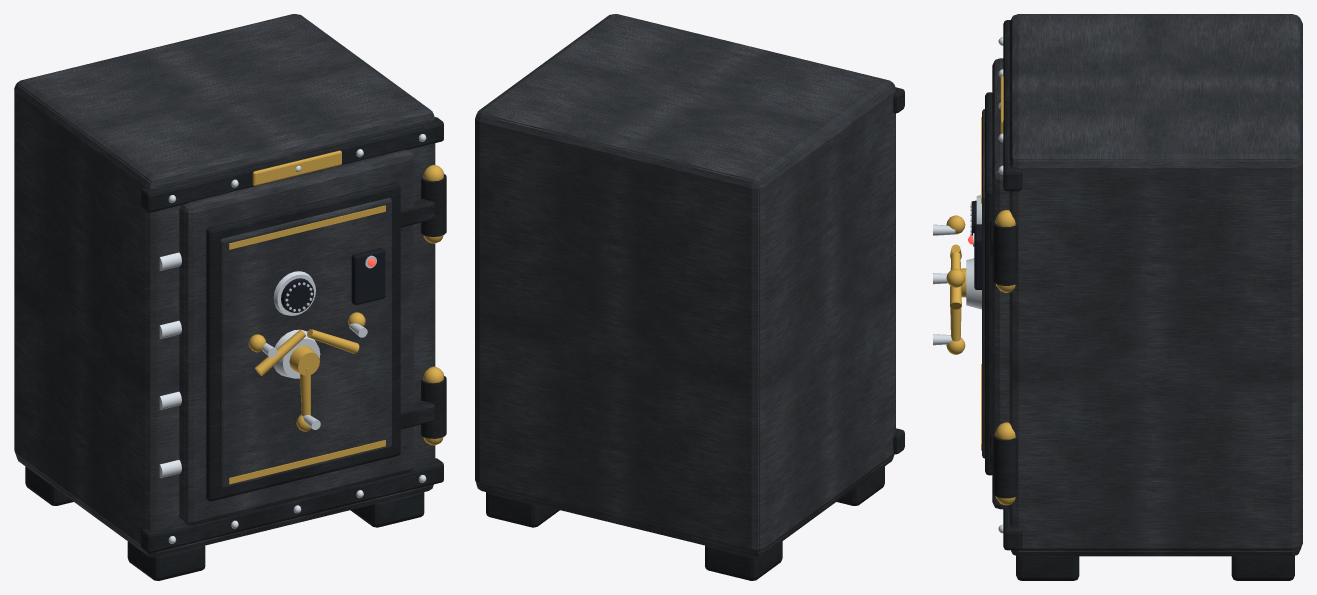
File: safe.glb
The picture shows the model from 3 angles, left to right: view 1: azimuth 30°, elevation 25°; view 2: azimuth 150°, elevation 25°; view 3: azimuth 270°, elevation 25°; orthographic projection. The views are drawn at different scales.
Parts seen in each view (by area): view 1: Safe_Body, Safe_Door, Safe_Dial; view 2: Safe_Body; view 3: Safe_Body, Safe_Door, Safe_Dial.
Part boxes in pixels (box(x1,y1,x2,y2)): Safe_Body: box(14, 14, 446, 580); Safe_Door: box(159, 149, 434, 525); Safe_Dial: box(248, 282, 367, 431); Safe_Body: box(475, 14, 904, 580); Safe_Body: box(992, 14, 1302, 580); Safe_Door: box(971, 58, 1009, 509); Safe_Dial: box(933, 203, 981, 354).
Bounding box in the file's own units: 1.14 × 1.5 × 1.17.
Materials: 10 (4 with a texture image).
